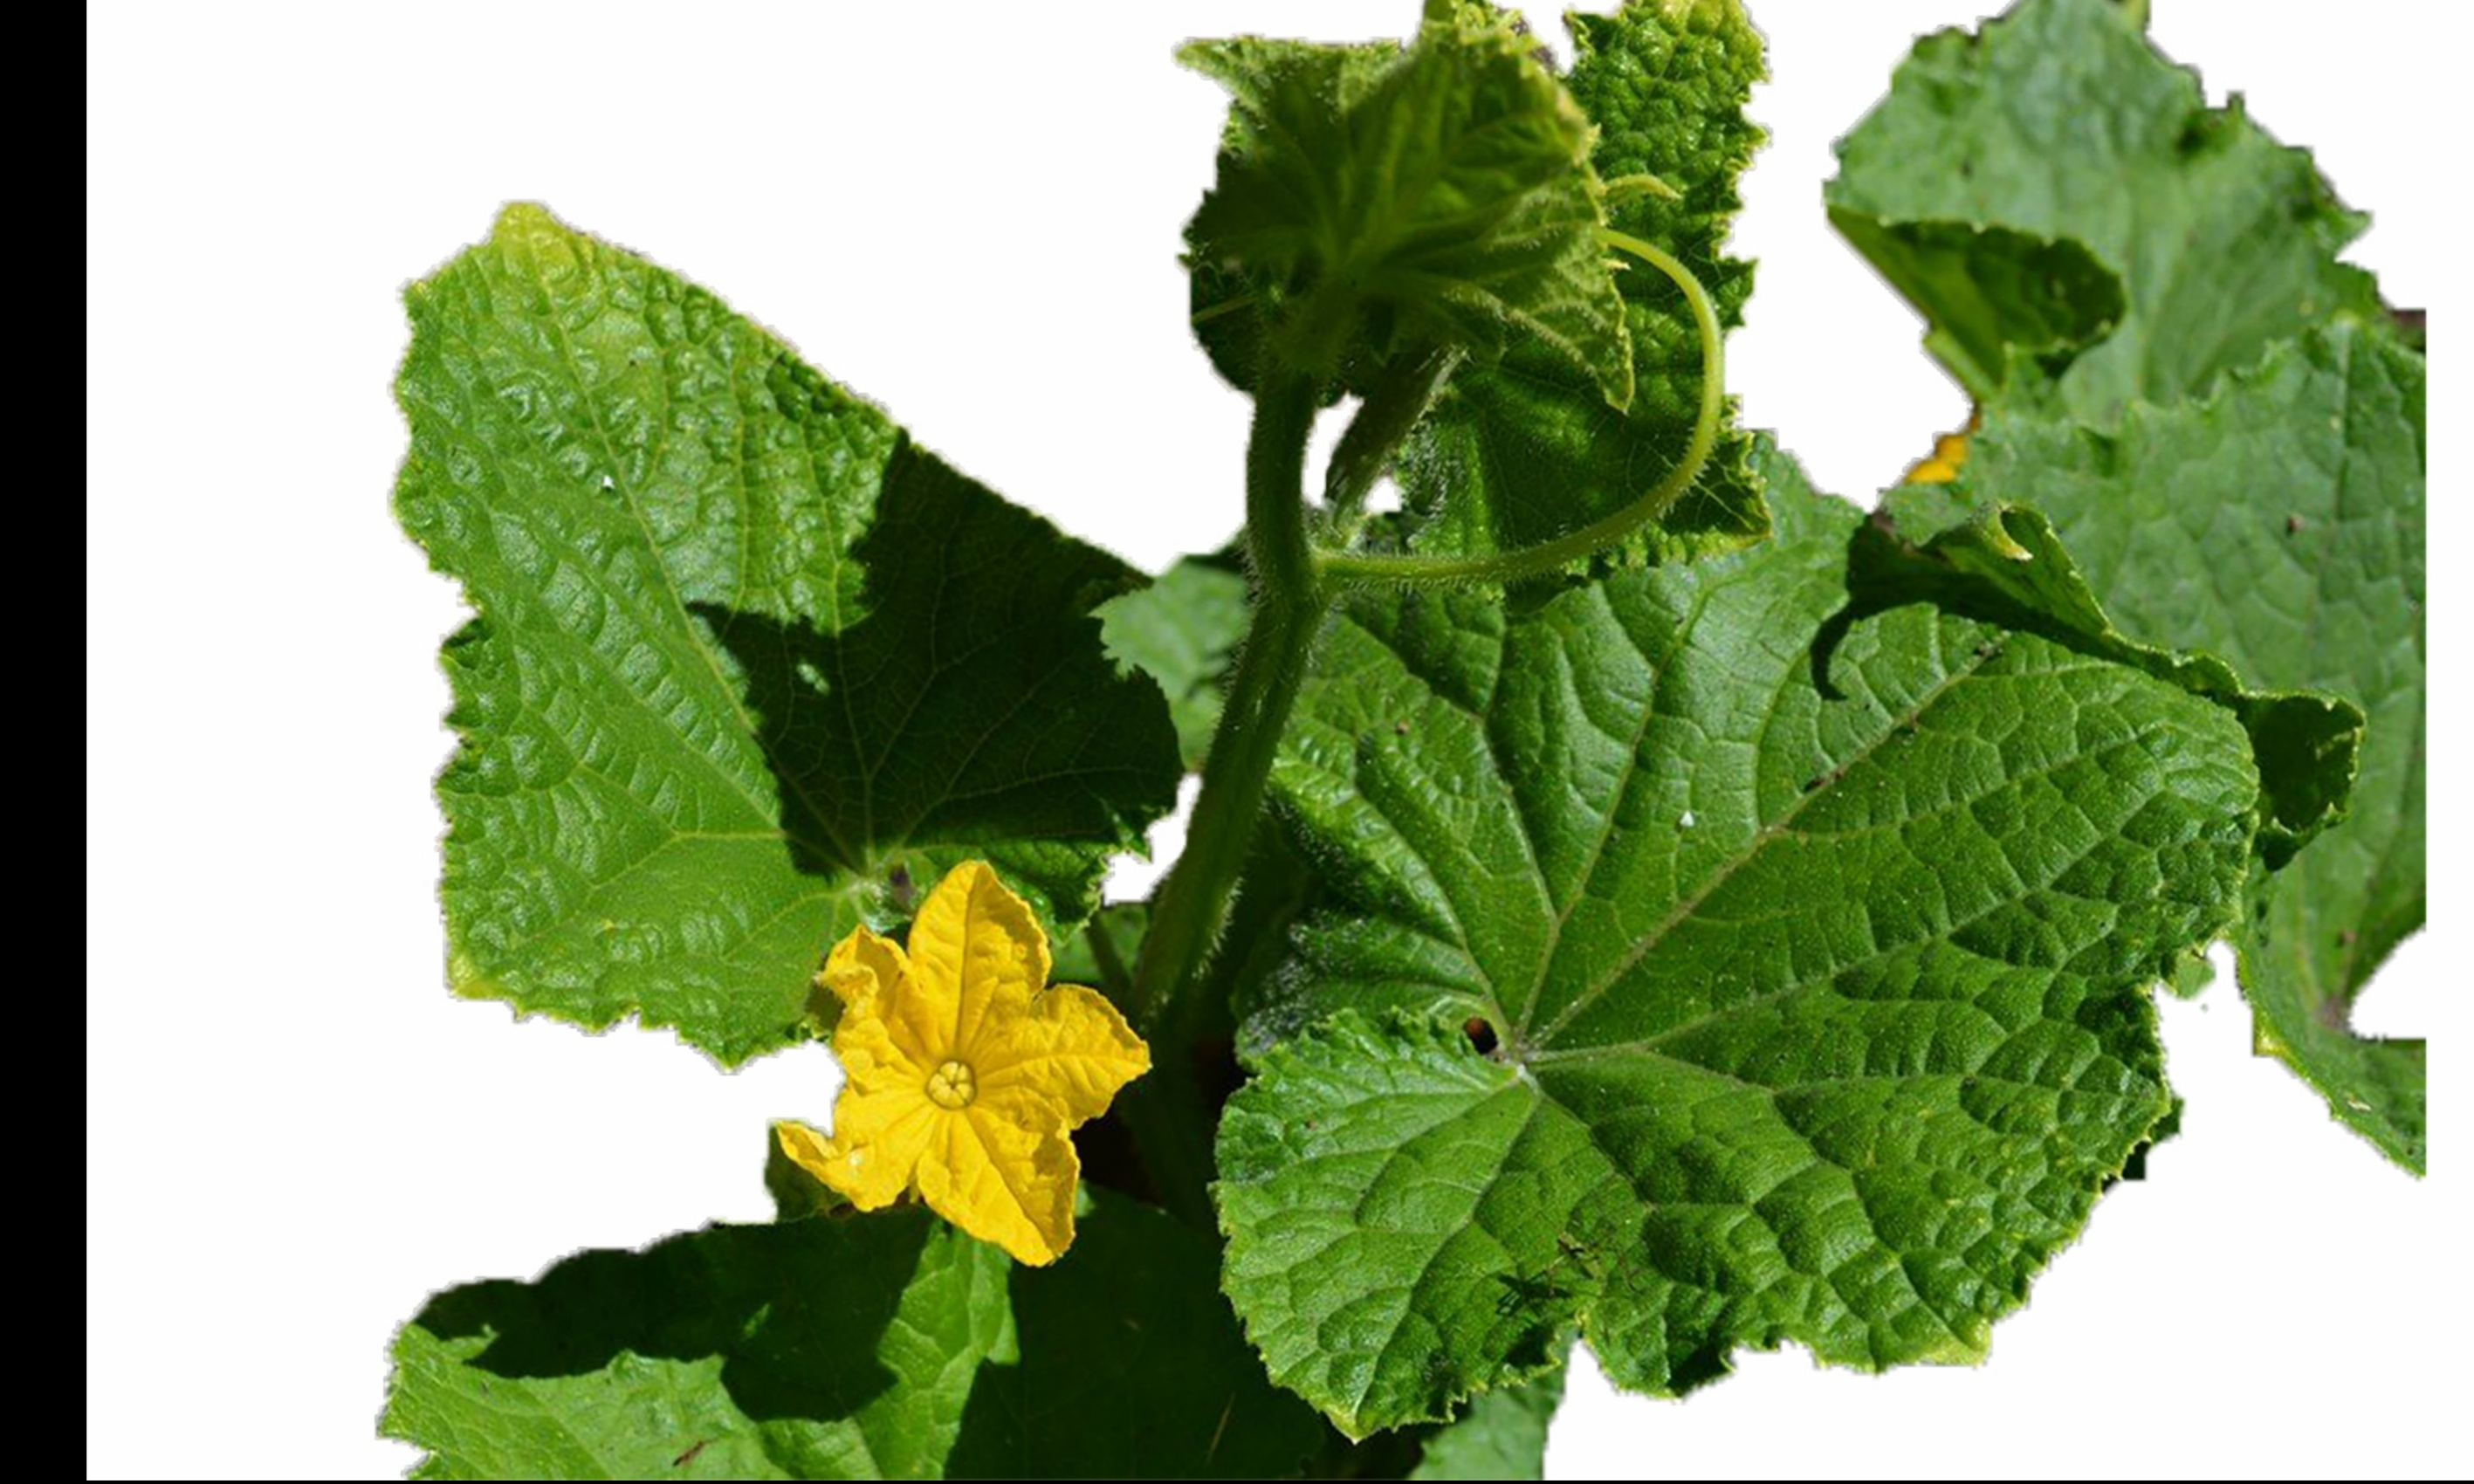cucumber_plant: (385, 194, 2280, 1480)
